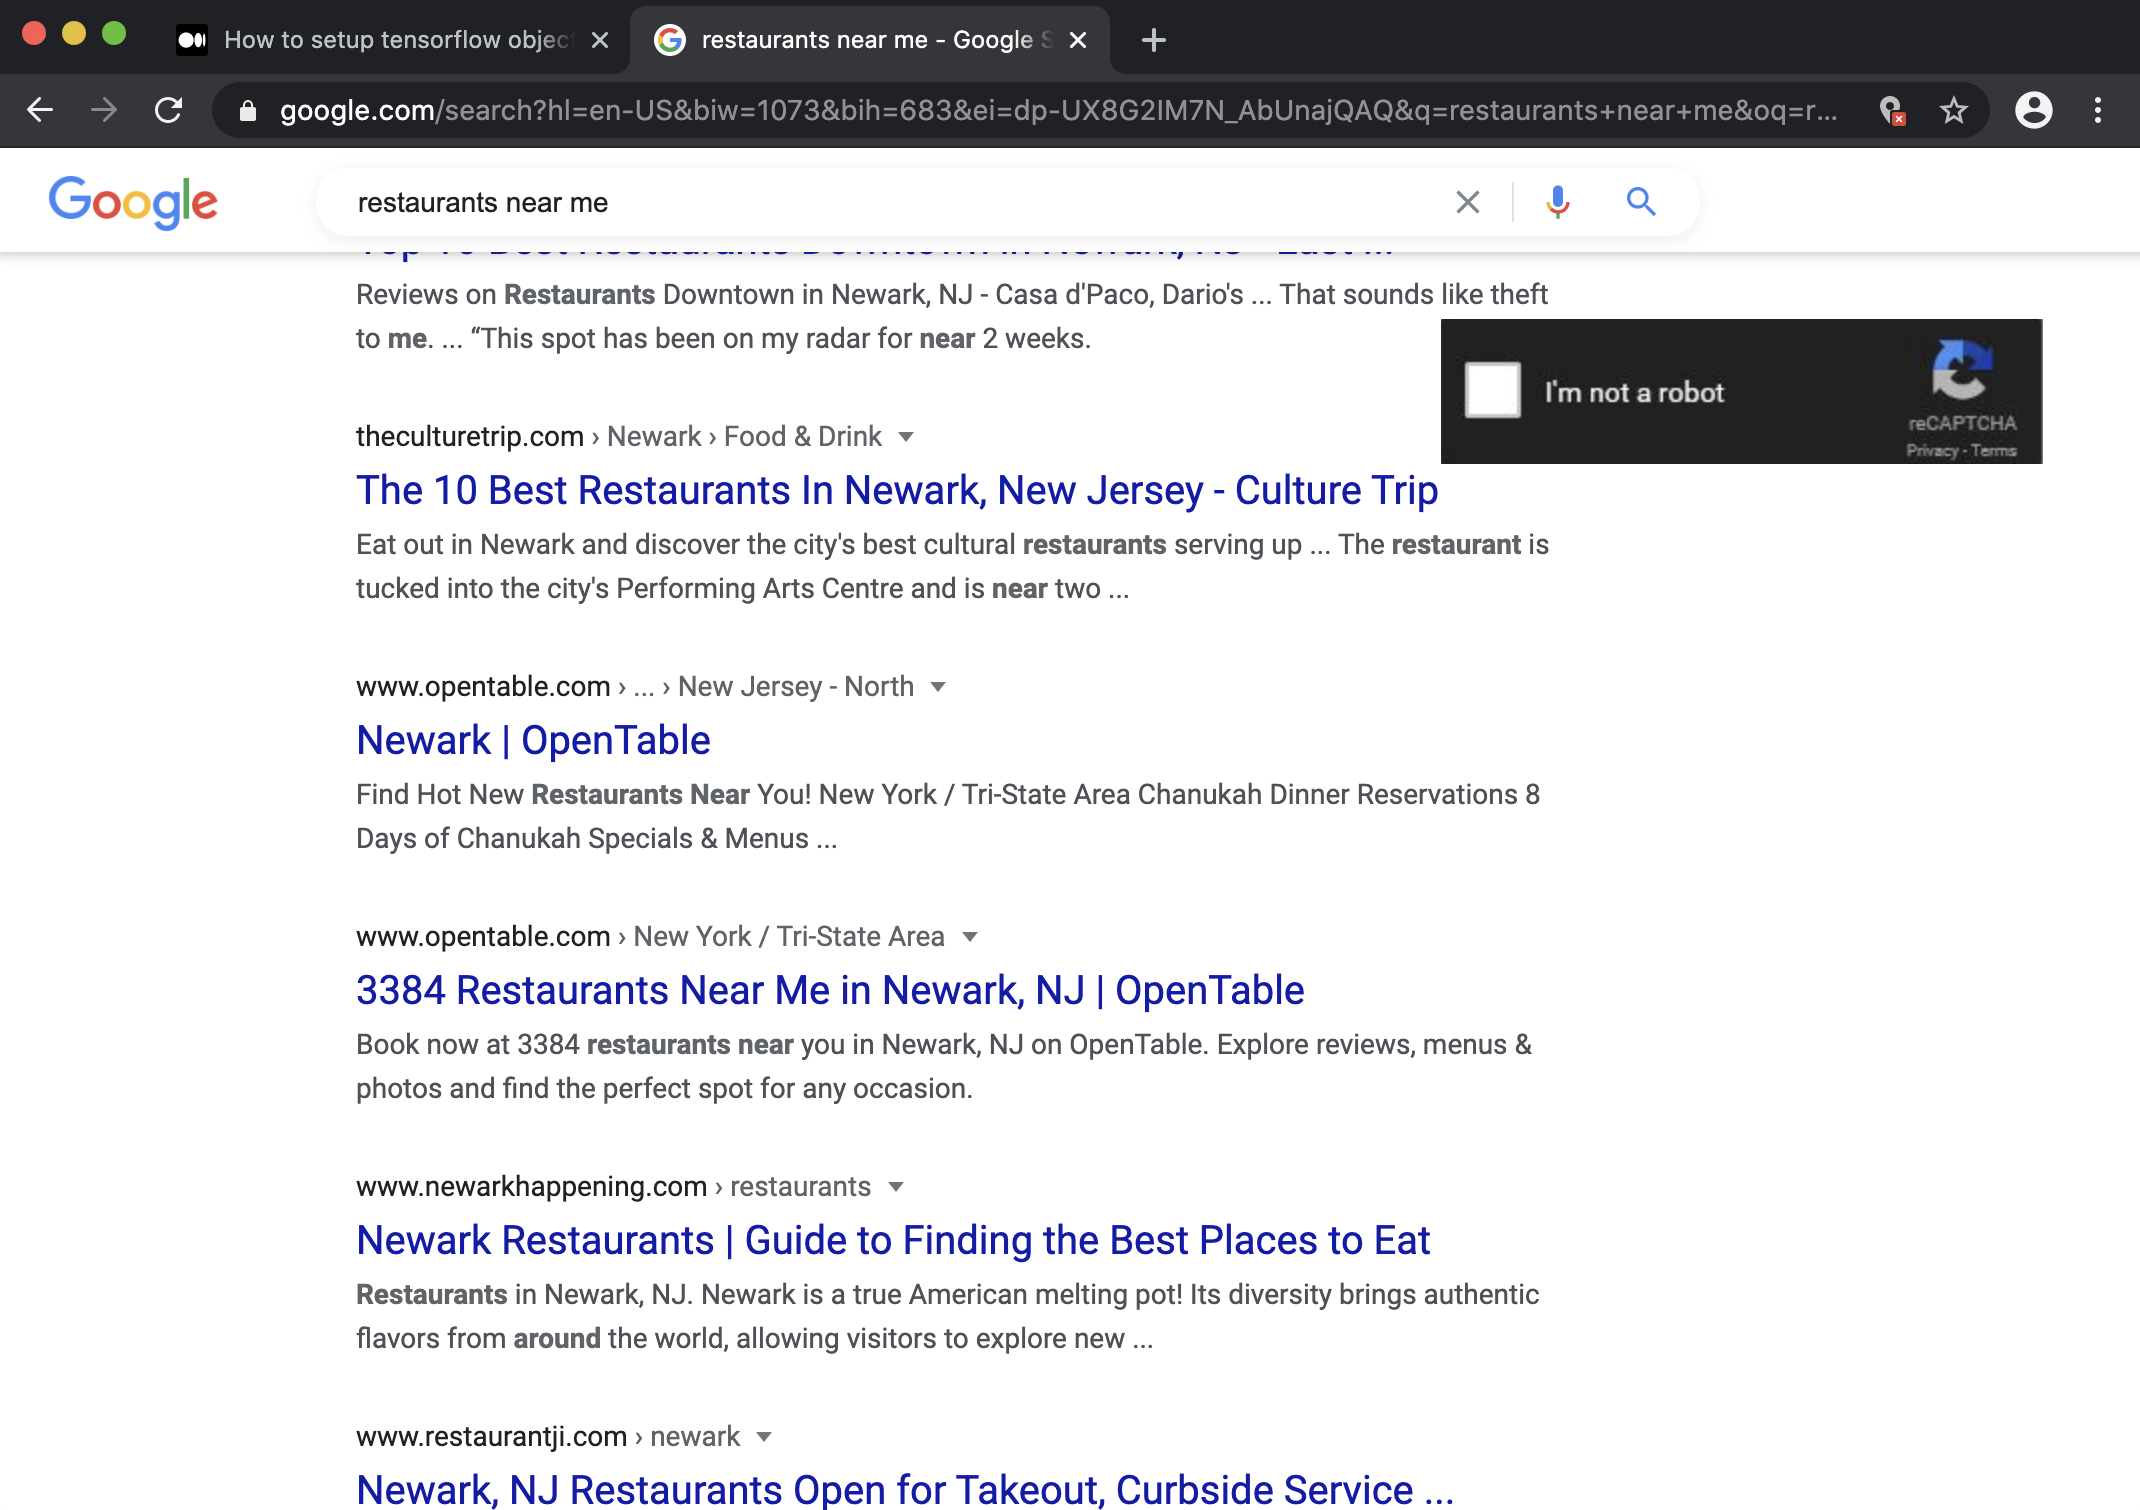captcha: (1426, 304, 2062, 484)
